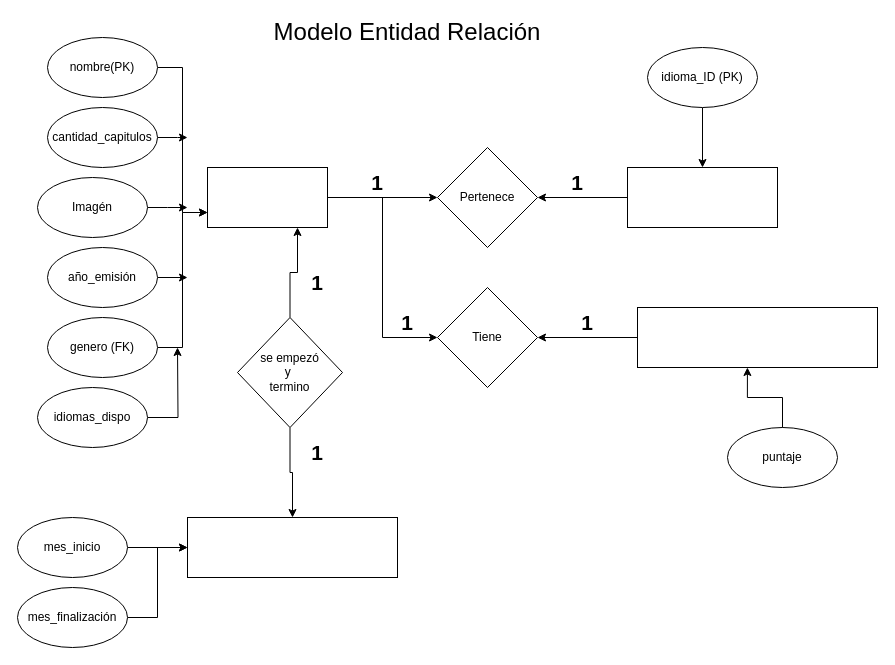
Some shapes in this 895 by 665 pixel diagram are drawn without their labels. Each missing label, with the centre of its shape:
animes: point 267,197
idioma_visto: point 702,197
inicio_finalizacion: point 292,547
valoracion_personal: point 757,337
